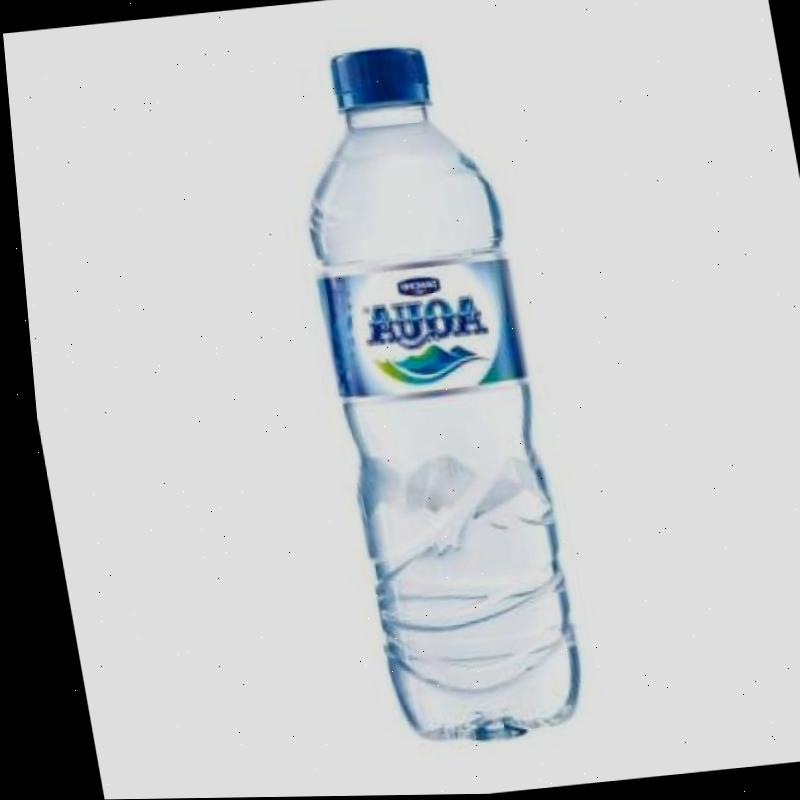botella: (278, 43, 580, 750)
